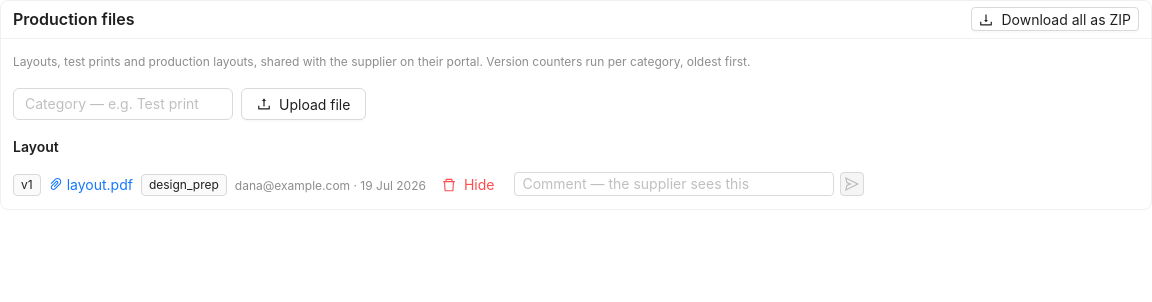
Test: PoFilesCard › posts a comment on a file thread and shows it after the reload
This screenshot has width=1152, height=302.
Expected: the text "layout.pdf" is shown, top-left (67, 174), bottom-right (133, 196)
Type "Looks good, print it" into the field with placeholder "Comment — the supplier sees this" at (674, 184), box top-left (514, 172), bottom-right (834, 196)
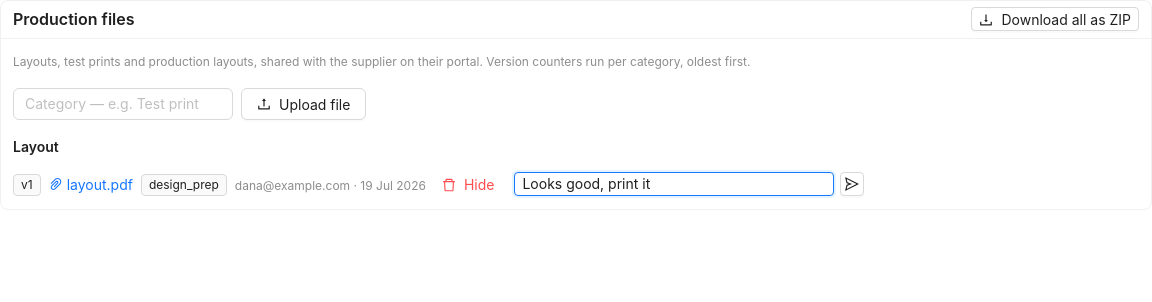
Click the button named "Post comment on layout.pdf" at (852, 184), box top-left (840, 172), bottom-right (864, 196)
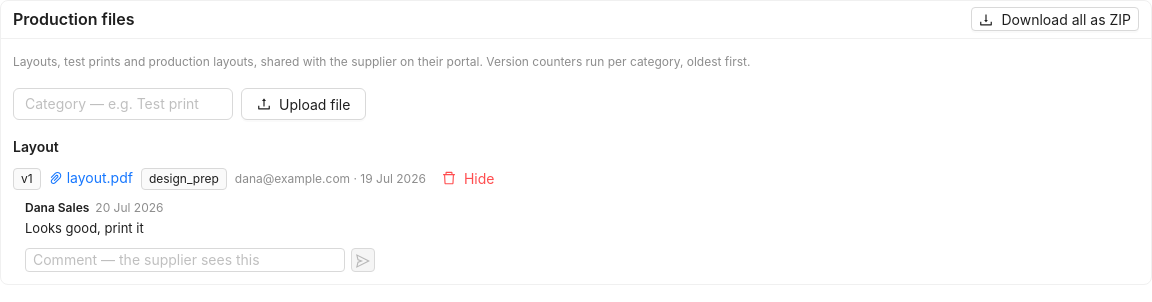
Expected: the text "Looks good, print it" is shown, top-left (25, 220), bottom-right (144, 236)
Expected: the text "Dana Sales" is shown, top-left (25, 200), bottom-right (89, 215)
